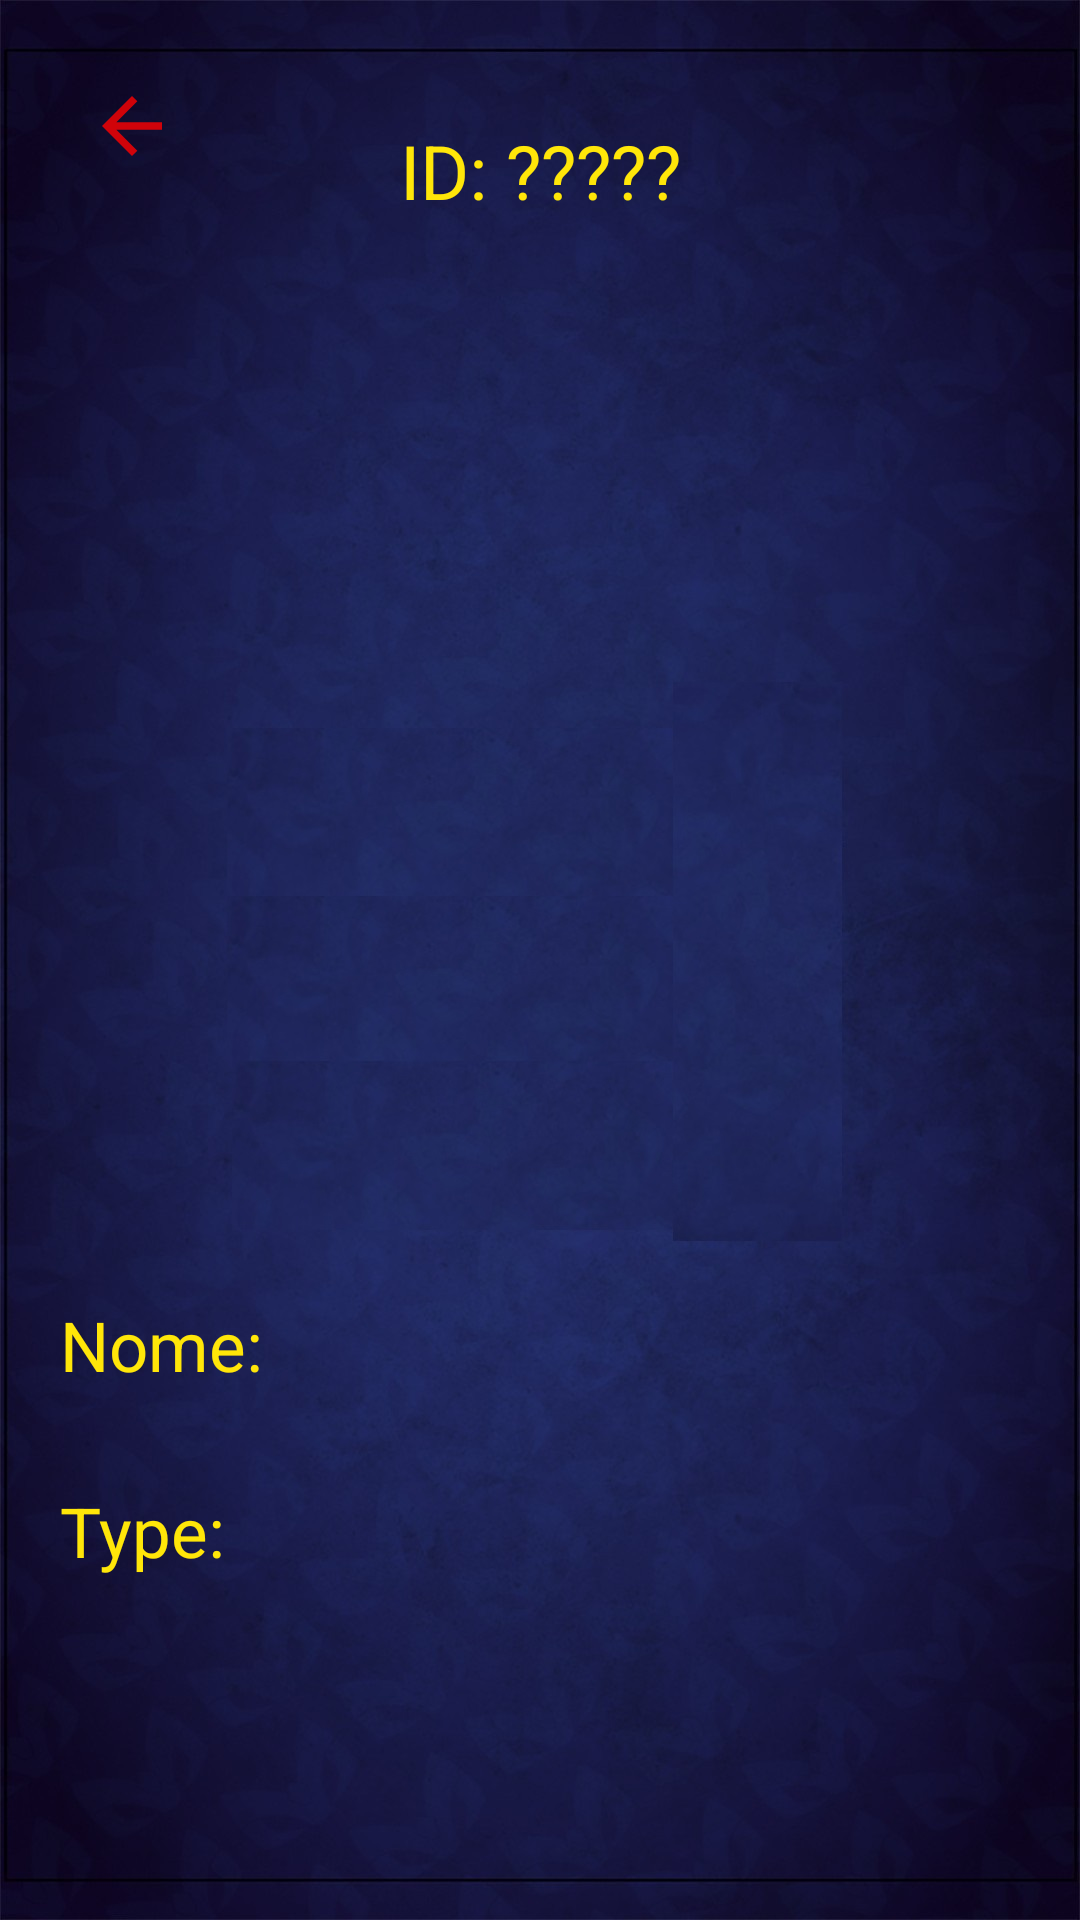

Icons on this 1080w x 1920h Android screen, each with its box as (x1, y1, x2, y2):
seta voltar: (102, 96, 162, 156)
